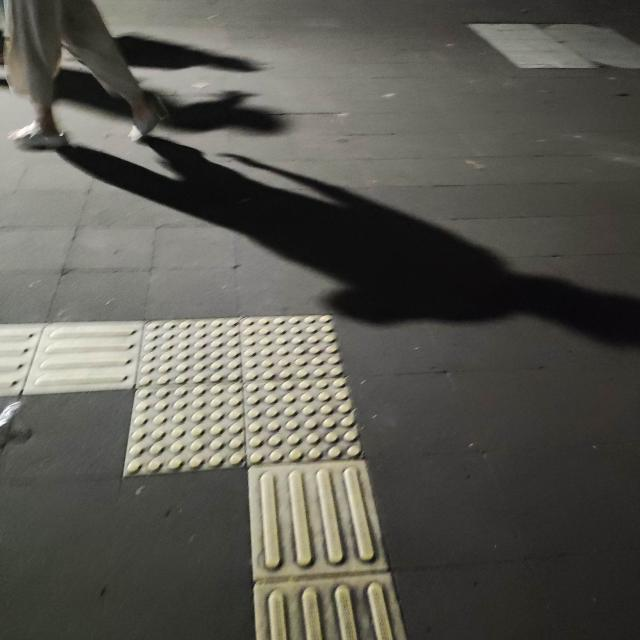kiri: (0, 271, 432, 574)
